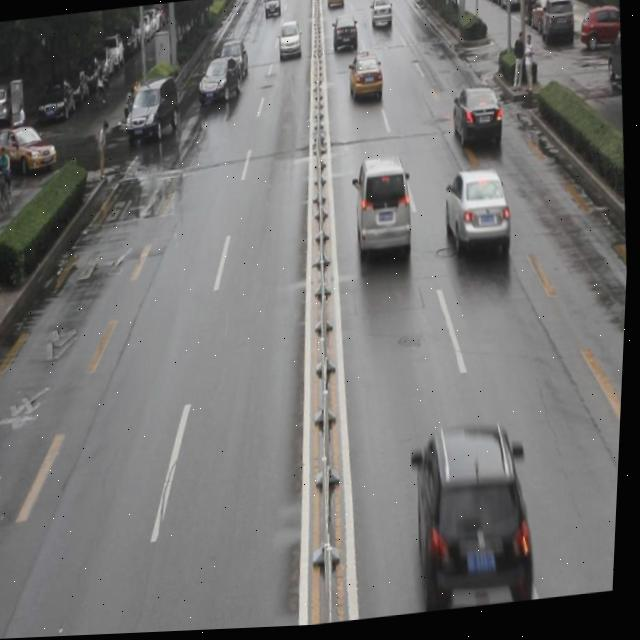car: (411, 422, 538, 609), (444, 169, 513, 260), (449, 84, 503, 154), (195, 56, 243, 106), (347, 53, 380, 101)
truck: (348, 160, 416, 265), (124, 82, 180, 142)
